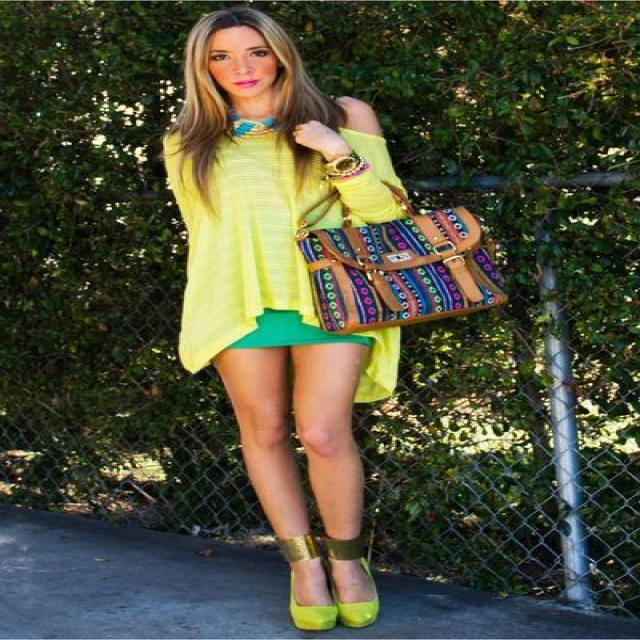bag: (294, 180, 506, 336)
dress: (134, 115, 405, 410)
shoe: (290, 525, 378, 628)
